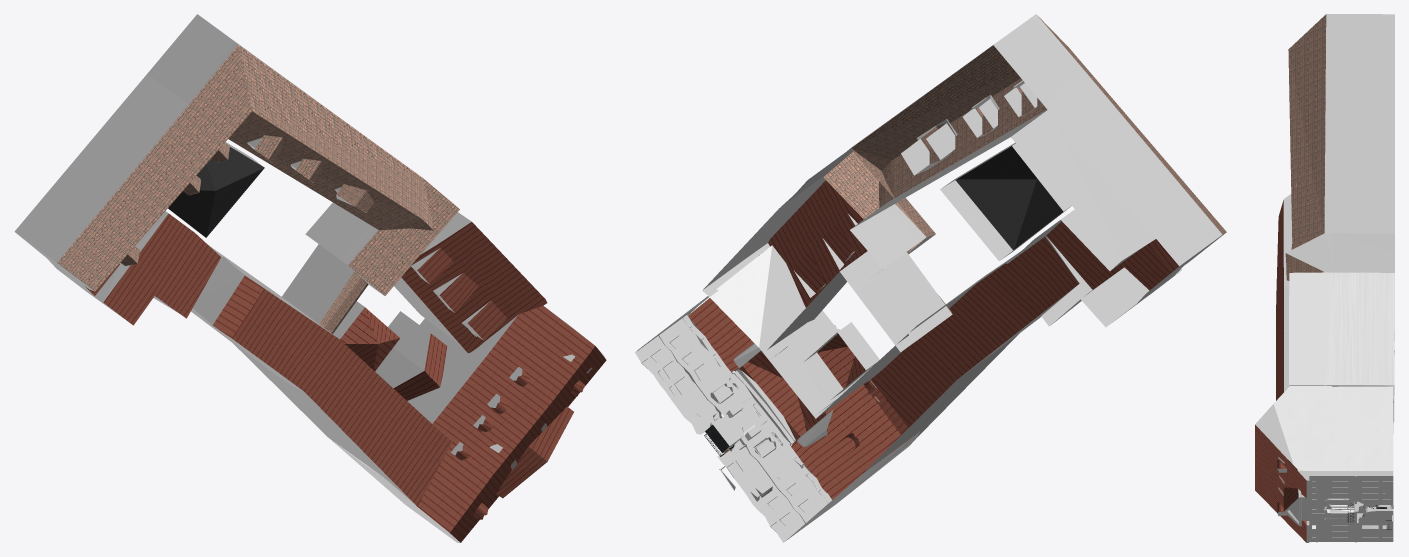
Rendered from Lai_5-origo.obj.
3 renders of one model, left to right at view 1: azimuth 30°, elevation 25°; view 2: azimuth 150°, elevation 25°; view 3: azimuth 270°, elevation 25°, orthographic. The views are drawn at different scales.
Parts seen in each view (by area): view 1: Lai_5; view 2: Lai_5; view 3: Lai_5.
Part boxes in pixels (left/top/right/bottom): Lai_5: left=14, top=14, right=606, bottom=542; Lai_5: left=635, top=14, right=1226, bottom=542; Lai_5: left=1255, top=14, right=1394, bottom=542.
Size of the model in its own units: 65.12 by 62.5 by 17.82.
